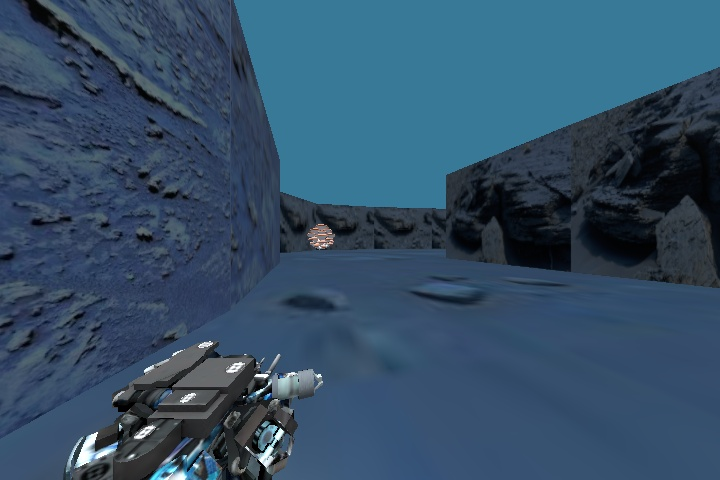mushrooms: (303, 214, 342, 253)
